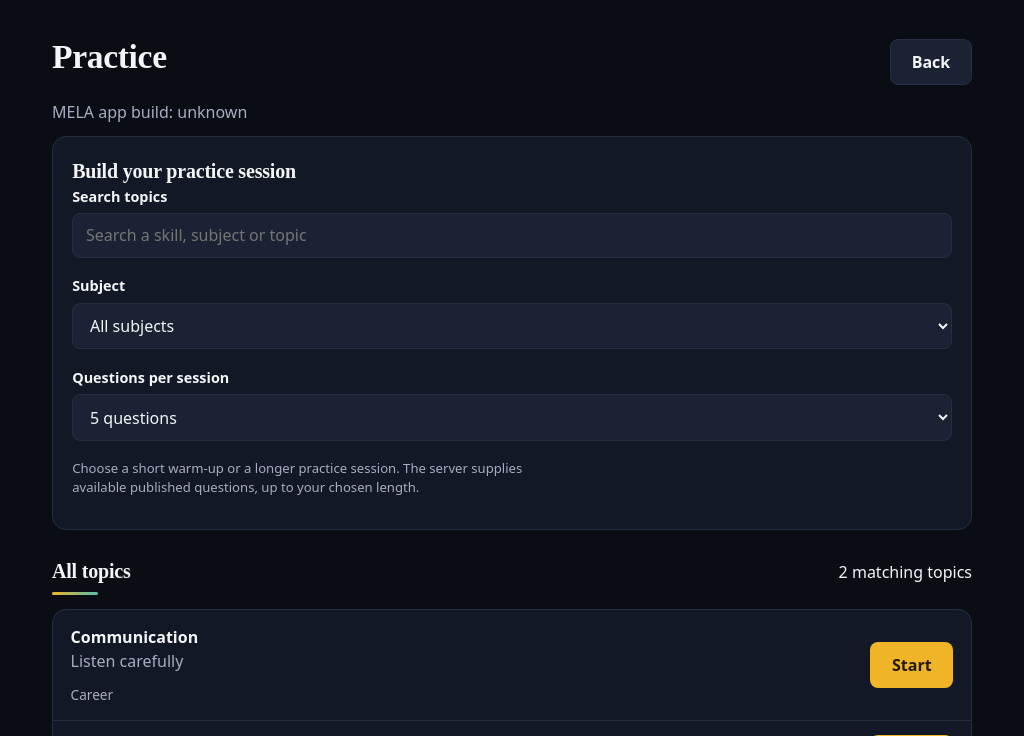
Test: searches career topics and uses the chosen session length
expect the text "Communication" is shown: met, box [71, 625, 198, 649]
Type "listen" into the search field labelled "Search topics". click: (512,235)
box: [72, 213, 952, 258]
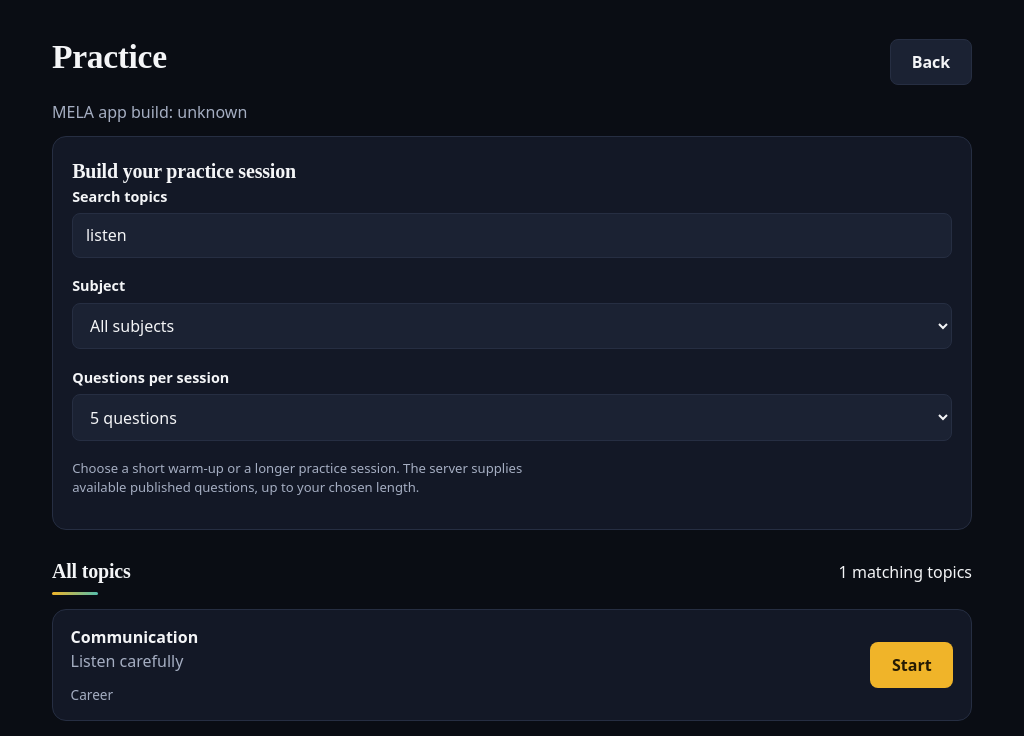
Select "30 questions" in the dropdown labelled "Questions per session". click: (512,418)
box: [72, 394, 952, 441]
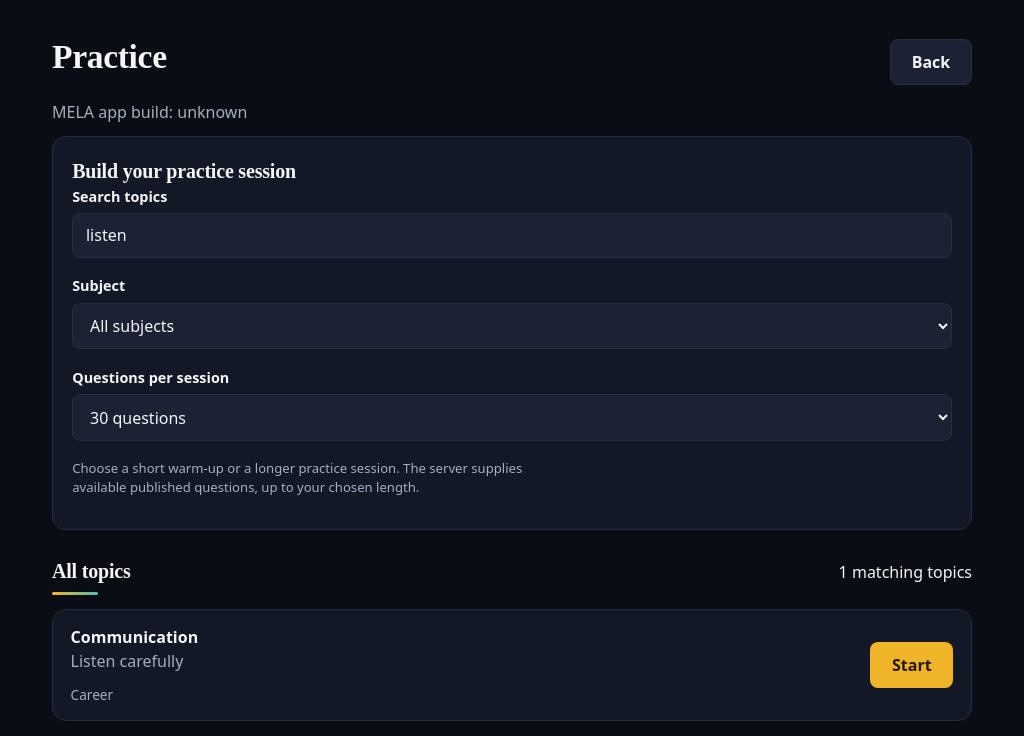
Click the button "Start". click: (912,665)
box: [870, 642, 953, 688]
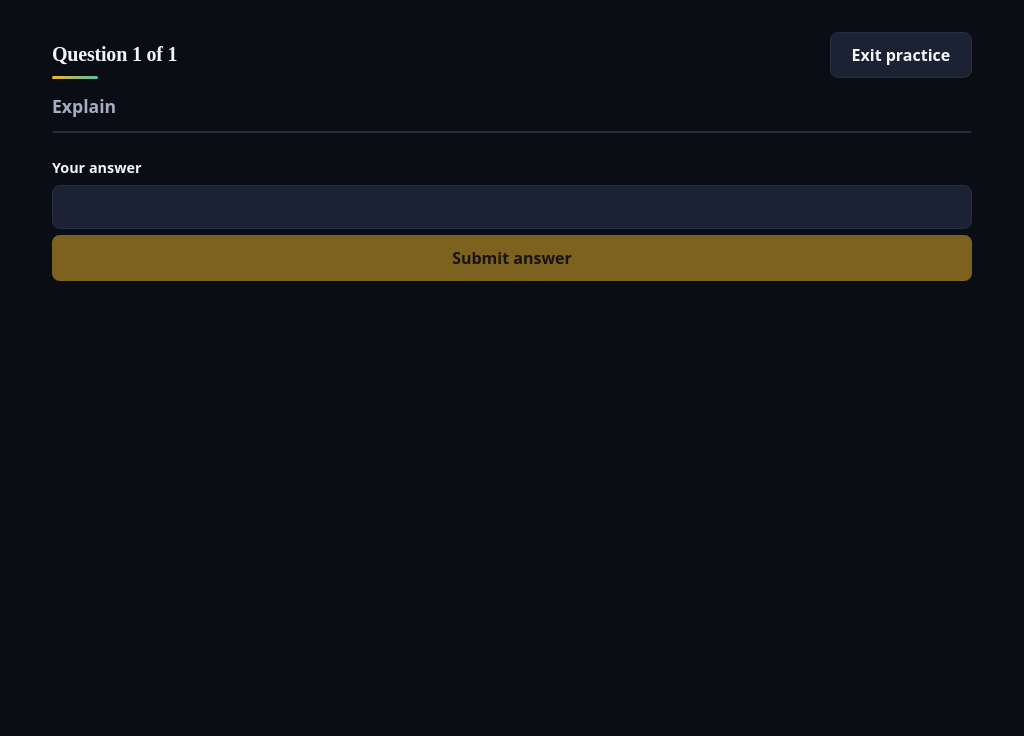
expect the field labelled "Your answer" is shown: met, box [52, 185, 972, 229]
